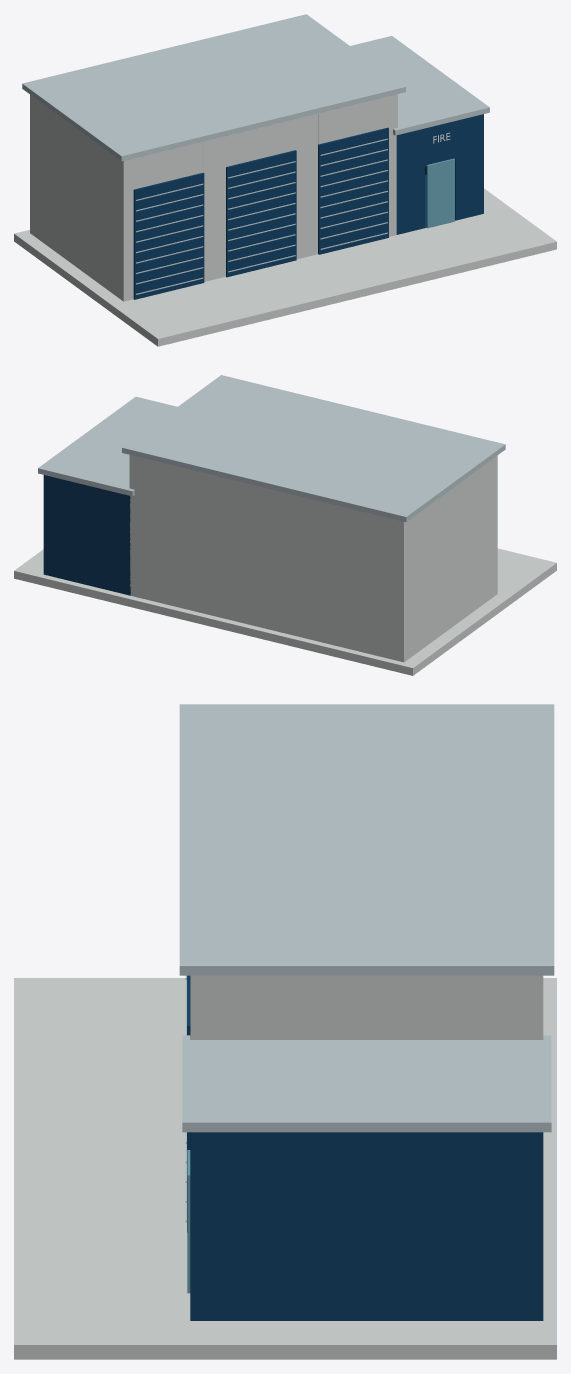
3 renders of one model, top to bottom at view 1: azimuth 30°, elevation 25°; view 2: azimuth 150°, elevation 25°; view 3: azimuth 270°, elevation 25°, orthographic. The views are drawn at different scales.
Parts seen in each view (by area): view 1: ROOF_Hall, APRON, APPLIANCE_Hall_Side.001, BAY_Shutter.001, BAY_Shutter, BAY_Shutter.002, ROOF_Office, APPLIANCE_Hall_FrontPier.002, APPLIANCE_Hall_FrontPier.003, OFFICE_FrontPier.001, OFFICE_FrontPier, APPLIANCE_Hall_EntryHeader.001 (+7 smaller); view 2: APPLIANCE_Hall_Back, ROOF_Hall, APPLIANCE_Hall_Side.001, APRON, OFFICE_Back, ROOF_Office; view 3: ROOF_Hall, APRON, OFFICE_Side.001, ROOF_Office, APPLIANCE_Hall_Side, OFFICE_FrontPier.001, OFFICE_Back, OFFICE_Roof.
Part boxes in pixels (<box>): ROOF_Hall: <box>22,14,405,161</box>; APRON: <box>14,188,556,346</box>; APPLIANCE_Hall_Side.001: <box>30,94,127,300</box>; BAY_Shutter.001: <box>133,172,204,299</box>; BAY_Shutter: <box>318,127,388,254</box>; BAY_Shutter.002: <box>226,150,296,277</box>; ROOF_Office: <box>350,36,489,135</box>; APPLIANCE_Hall_FrontPier.002: <box>203,136,225,281</box>; APPLIANCE_Hall_FrontPier.003: <box>295,113,317,258</box>; OFFICE_FrontPier.001: <box>455,115,483,220</box>; OFFICE_FrontPier: <box>400,128,424,233</box>; APPLIANCE_Hall_EntryHeader.001: <box>133,141,203,189</box>; APPLIANCE_Hall_Back: <box>130,455,406,662</box>; ROOF_Hall: <box>122,375,505,521</box>; APPLIANCE_Hall_Side.001: <box>400,456,497,660</box>; APRON: <box>14,548,556,675</box>; OFFICE_Back: <box>43,475,130,595</box>; ROOF_Office: <box>38,396,177,496</box>; ROOF_Hall: <box>179,704,554,975</box>; APRON: <box>14,978,556,1359</box>; OFFICE_Side.001: <box>190,1132,542,1320</box>; ROOF_Office: <box>182,1035,551,1132</box>; APPLIANCE_Hall_Side: <box>190,975,543,1039</box>; OFFICE_FrontPier.001: <box>190,1132,198,1320</box>; OFFICE_Back: <box>535,1132,543,1320</box>; OFFICE_Roof: <box>199,1132,541,1134</box>.
Bounding box in the file's own units: 16 × 6 × 10.
